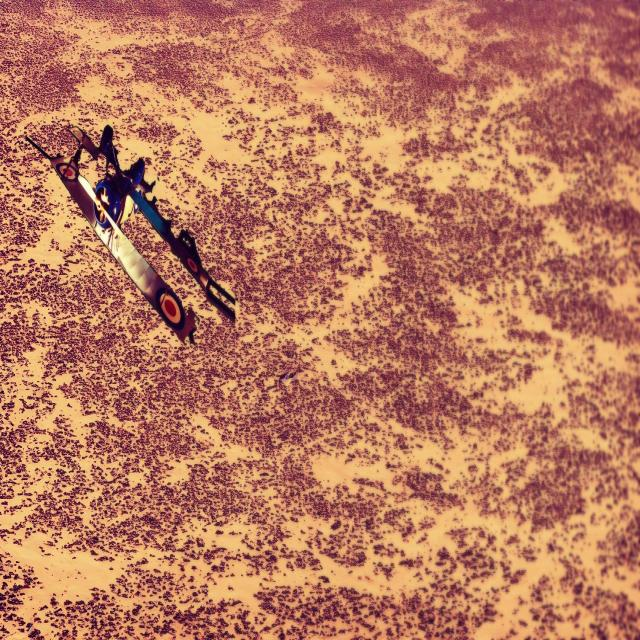airplane: (25, 121, 237, 338)
